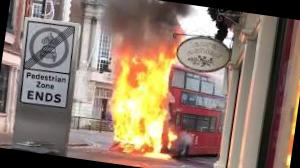Fire: (104, 52, 185, 160)
Smoke: (86, 0, 185, 61)
